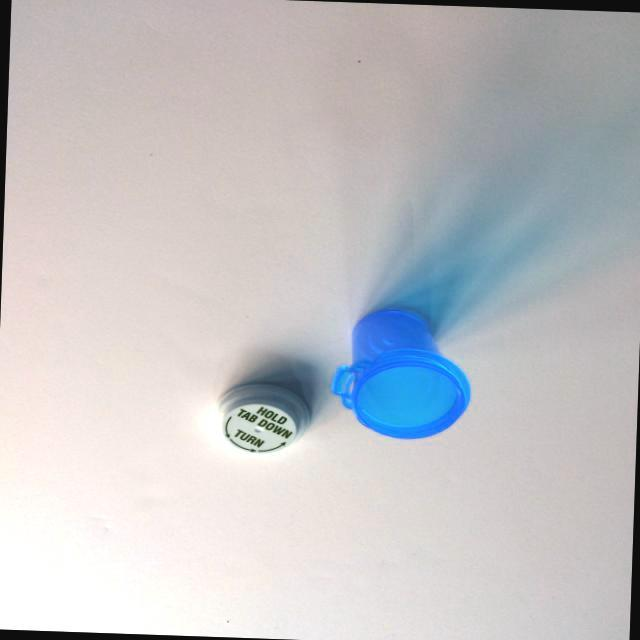plastic: (194, 278, 486, 496)
